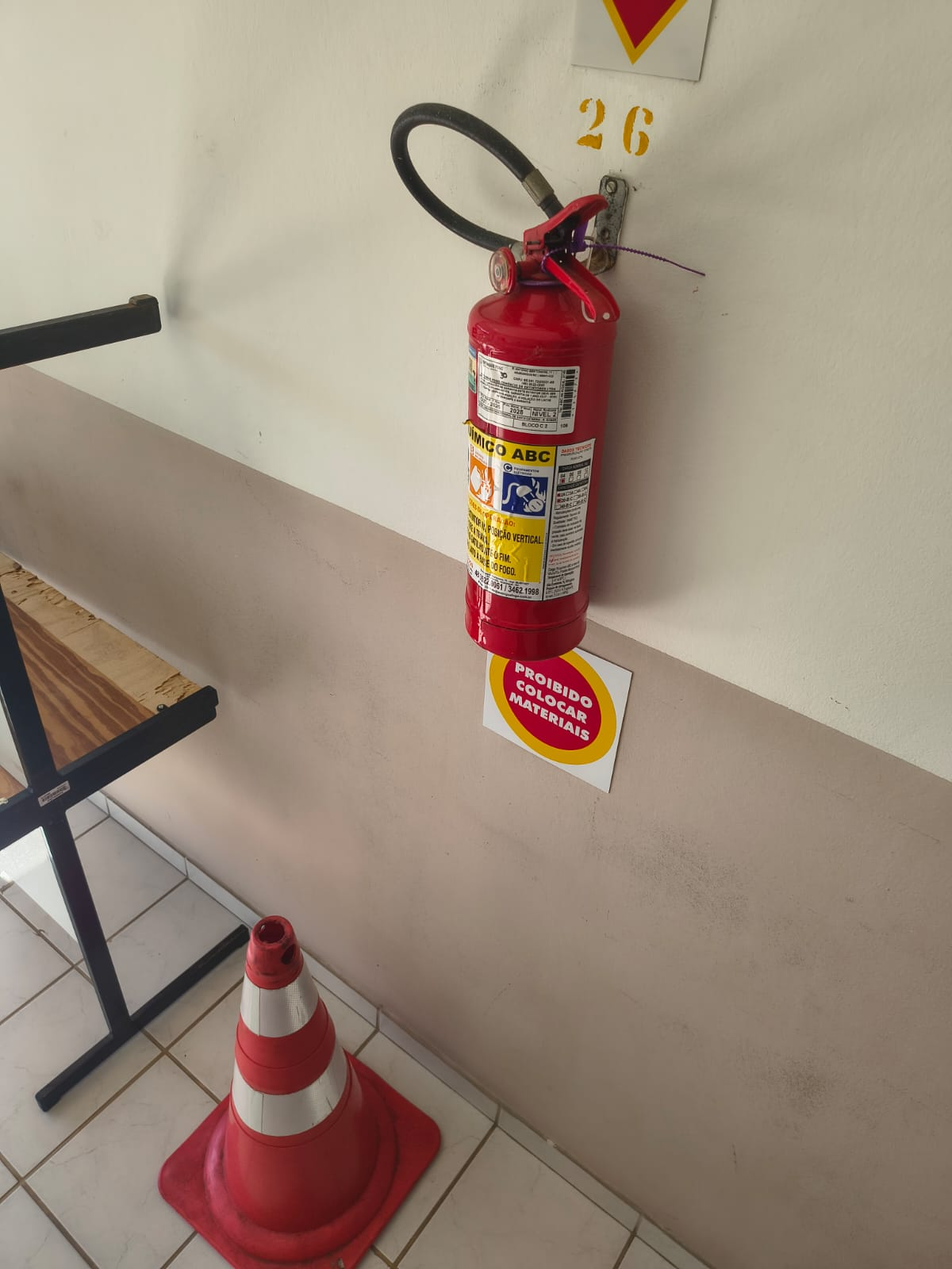cone: (156, 915, 436, 1257)
